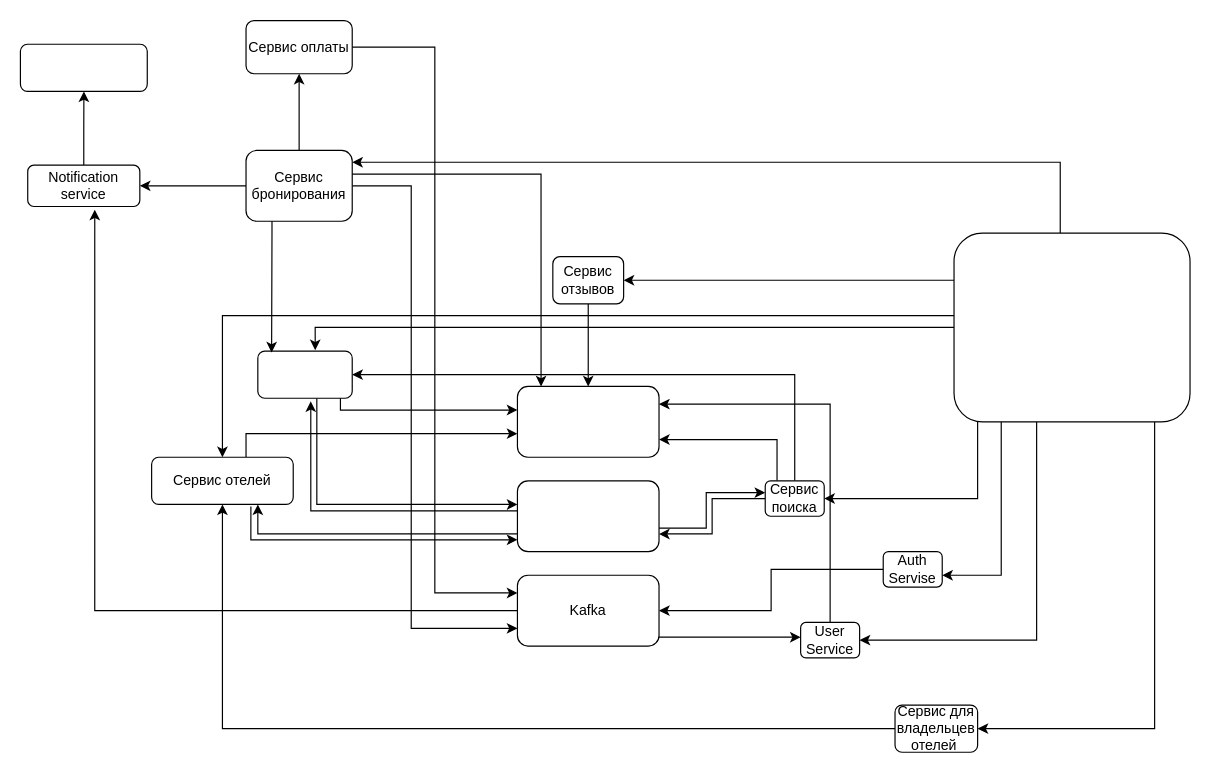
Image size: 1212x774. Some labels were removed from this diagram. Here are the shapes that lost their labels. From the top down, the centre of each, then its label:
At (83,67): "Email/sms server".
At (1071,327): "Client App".
At (304,374): "Сервис доступности".
At (587,421): "База данных".
At (587,516): "Redis".
